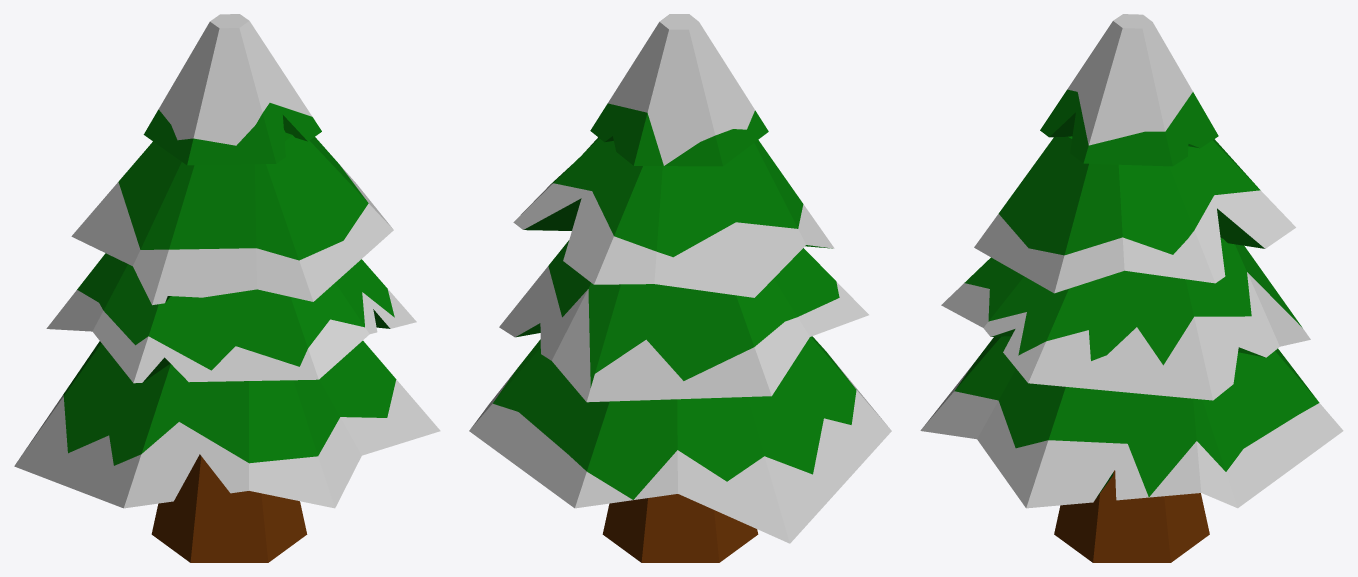
File: drzewozima.fbx
3 views of the same model, side by side, from view 1: azimuth 30°, elevation 25°; view 2: azimuth 150°, elevation 25°; view 3: azimuth 270°, elevation 25° (orthographic).
Visible parts, largest first — view 1: doł, trzon; view 2: doł, trzon; view 3: doł, trzon.
Part boxes in pixels (x1,y1,x2,y2): doł: (14,14,440,508); trzon: (151,454,307,562); doł: (469,14,891,543); trzon: (602,494,758,562); doł: (920,14,1343,508); trzon: (1054,470,1209,562).
Size of the model in its own units: 476 by 728 by 543.
